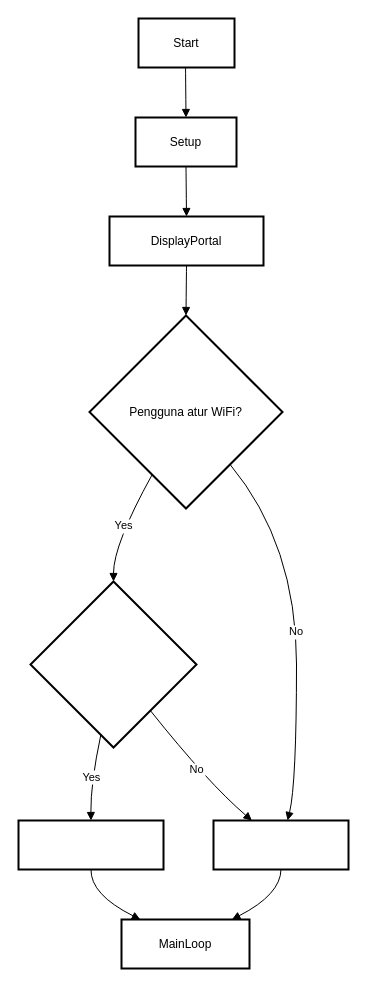
Some shapes in this 366 by 986 pixel diagram are drawn without their labels. The shapes that lost their labels are listed below. From the top down, each one's centre as x and y in pixels, then its label:
At (113,664): "WiFi Terhubung?".
At (90,844): "SuccessWiFi".
At (280,844): "FailedWiFi".
